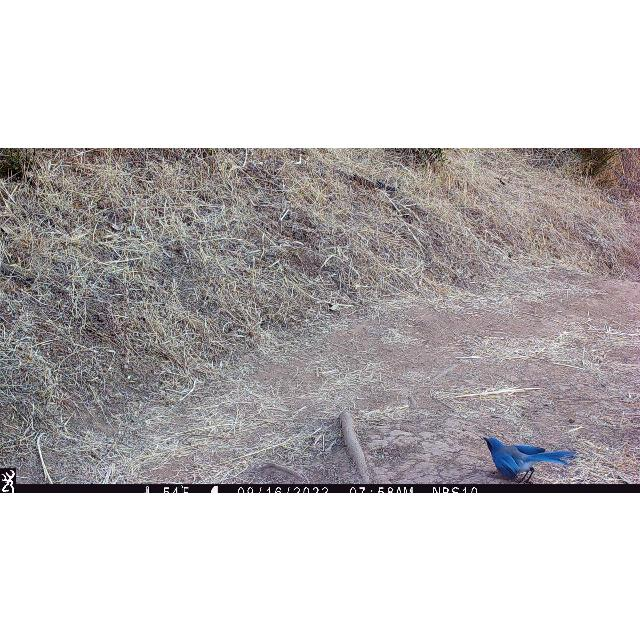animals: (484, 436, 576, 482)
